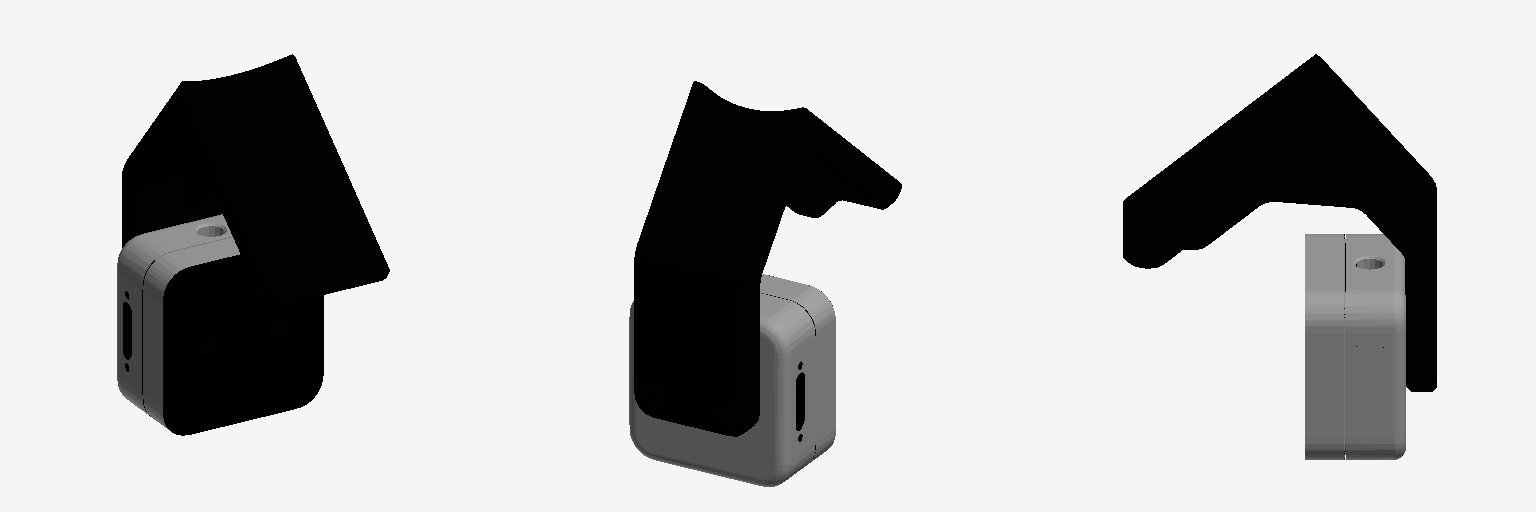
Rendered from camera.obj.
The picture shows the model from 3 angles: view 1: azimuth 30°, elevation 25°; view 2: azimuth 150°, elevation 25°; view 3: azimuth 270°, elevation 25°; orthographic projection.
Parts seen in each view (by area): view 1: left_D405_link; view 2: left_D405_link; view 3: left_D405_link.
Boxes of the visible parts, <box> form: left_D405_link: <box>117,54,389,435</box>; left_D405_link: <box>629,81,901,486</box>; left_D405_link: <box>1123,54,1436,459</box>.
Size of the model in its own units: 0.0421 by 0.0874 by 0.0712.